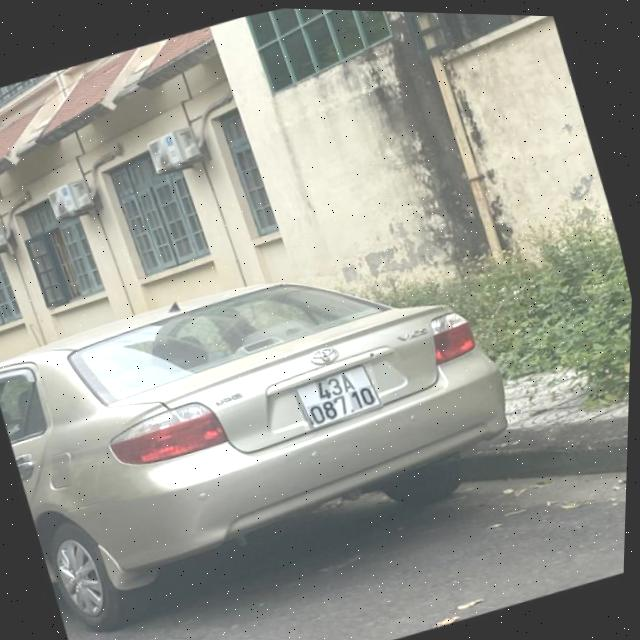car: (0, 215, 549, 640)
plate: (283, 352, 391, 439)
